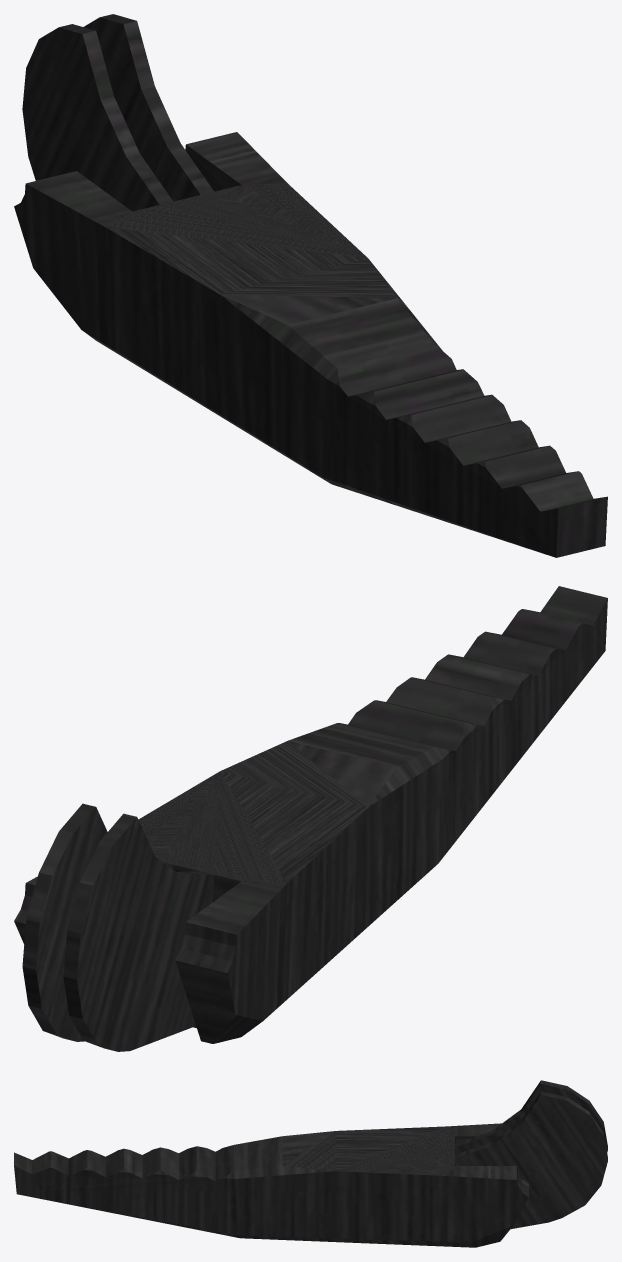
The model's file is tarsus_bot.dae.
3 views of the same model, one above another, from view 1: azimuth 30°, elevation 25°; view 2: azimuth 150°, elevation 25°; view 3: azimuth 270°, elevation 25° (orthographic). The views are drawn at different scales.
Parts seen in each view (by area): view 1: Tarsus_2; view 2: Tarsus_2; view 3: Tarsus_2.
Part boxes in pixels (x1,y1,x2,y2): Tarsus_2: [14, 14, 607, 557]; Tarsus_2: [14, 586, 607, 1051]; Tarsus_2: [14, 1080, 607, 1247].
Size of the model in its own units: 0.1566 by 0.6779 by 0.1768.
1 material, 1 textured.
